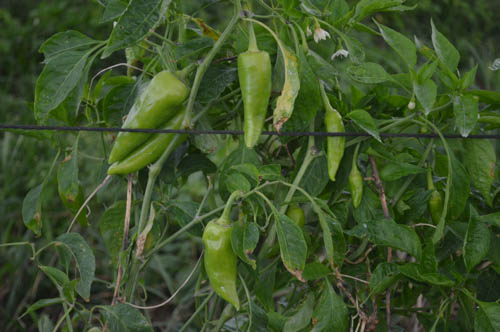ChiliPepper: (105, 72, 188, 158), (103, 113, 194, 184), (202, 219, 241, 307), (237, 51, 270, 148), (268, 207, 303, 262), (321, 114, 346, 185), (345, 167, 365, 207), (425, 190, 442, 225)
